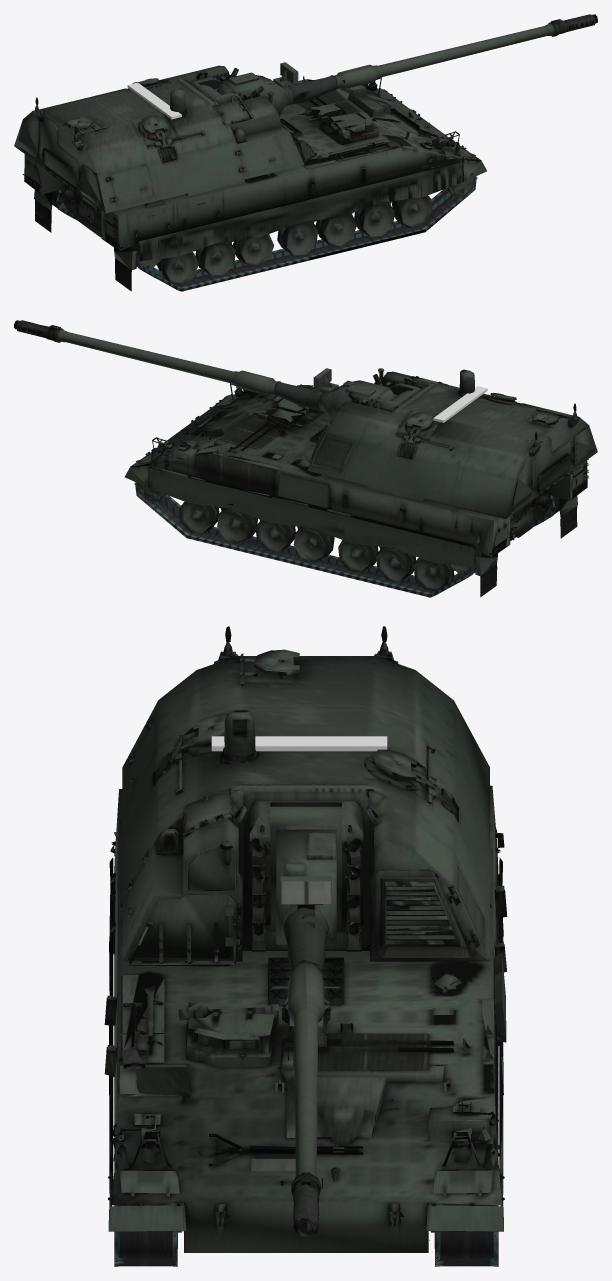
The model's file is pzh.glb.
3 renders of one model, top to bottom at view 1: azimuth 30°, elevation 25°; view 2: azimuth 150°, elevation 25°; view 3: azimuth 270°, elevation 25°, orthographic. The views are drawn at different scales.
Parts seen in each view (by area): view 1: g_pzh_hull, g_pzh_turret, g_pzh_gun; view 2: g_pzh_hull, g_pzh_turret, g_pzh_gun; view 3: g_pzh_hull, g_pzh_turret, g_pzh_gun.
Part boxes in pixels (x1=…): g_pzh_hull: x1=22, y1=76, x2=486, y2=291; g_pzh_turret: x1=14, y1=19, x2=562, y2=213; g_pzh_gun: x1=289, y1=14, x2=597, y2=104; g_pzh_hull: x1=125, y1=383, x2=588, y2=597; g_pzh_turret: x1=49, y1=325, x2=597, y2=518; g_pzh_gun: x1=14, y1=320, x2=322, y2=410; g_pzh_hull: x1=104, y1=785, x2=507, y2=1266; g_pzh_turret: x1=120, y1=626, x2=492, y2=1185; g_pzh_gun: x1=283, y1=908, x2=328, y2=1238.
Bounding box in the file's own units: 11.7 × 3.54 × 3.76.
4 materials, 3 textured.
